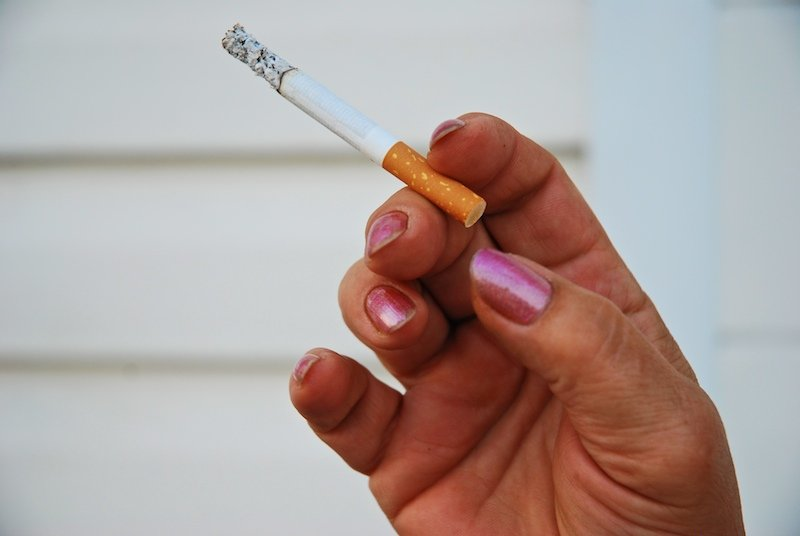cigarette: (220, 22, 490, 227)
